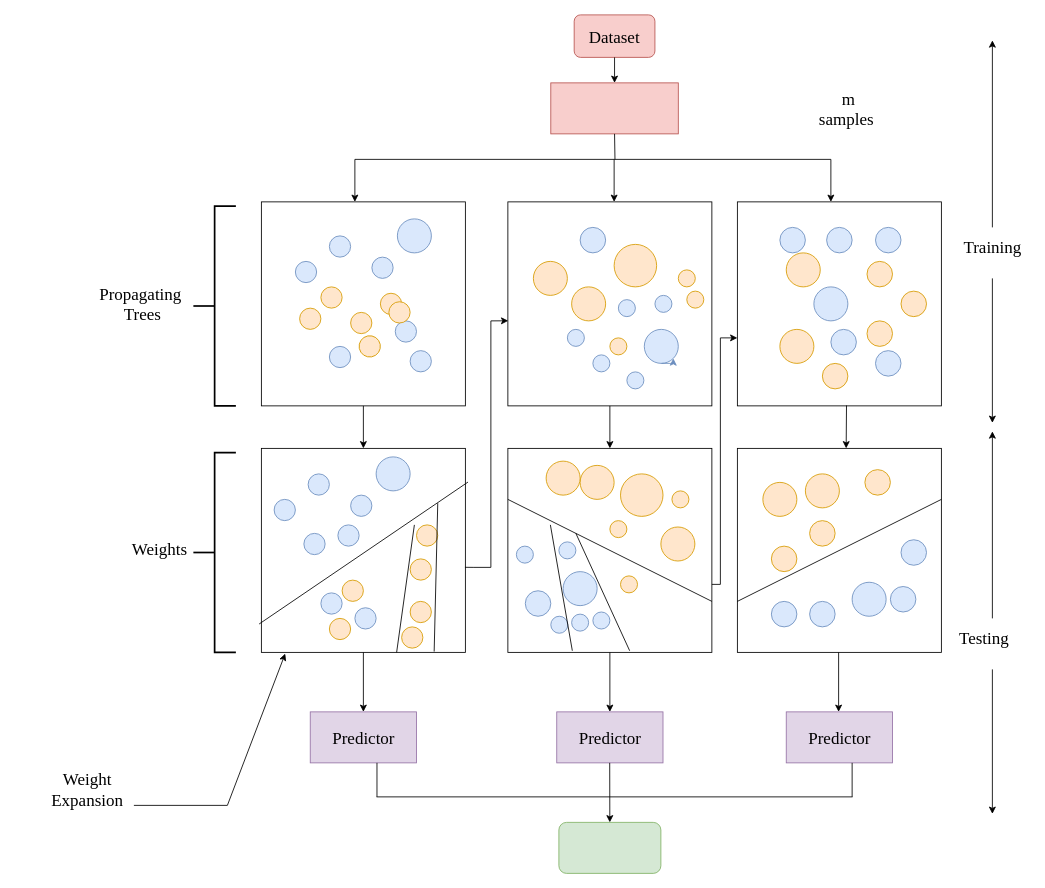
The diagram is 1045 pixels wide and 888 high, and some of its shapes have lost their labels. Here are the shapes that lost their labels. From the top down, the centre of each, then its label:
At point 614,108: "n samples, m features".
At point 609,847: "Average Predictor".
